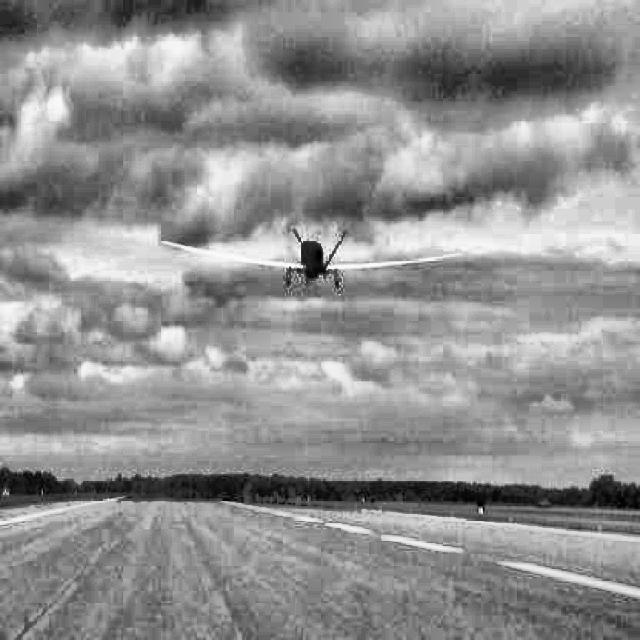RQ4: (159, 228, 464, 288)
